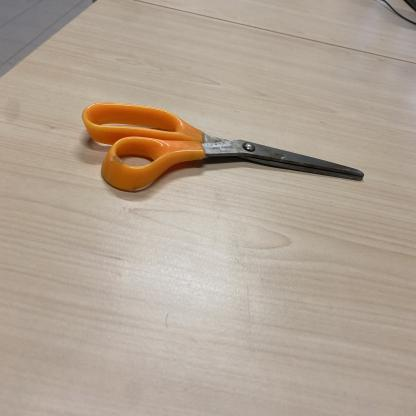scissors: (83, 101, 363, 193)
